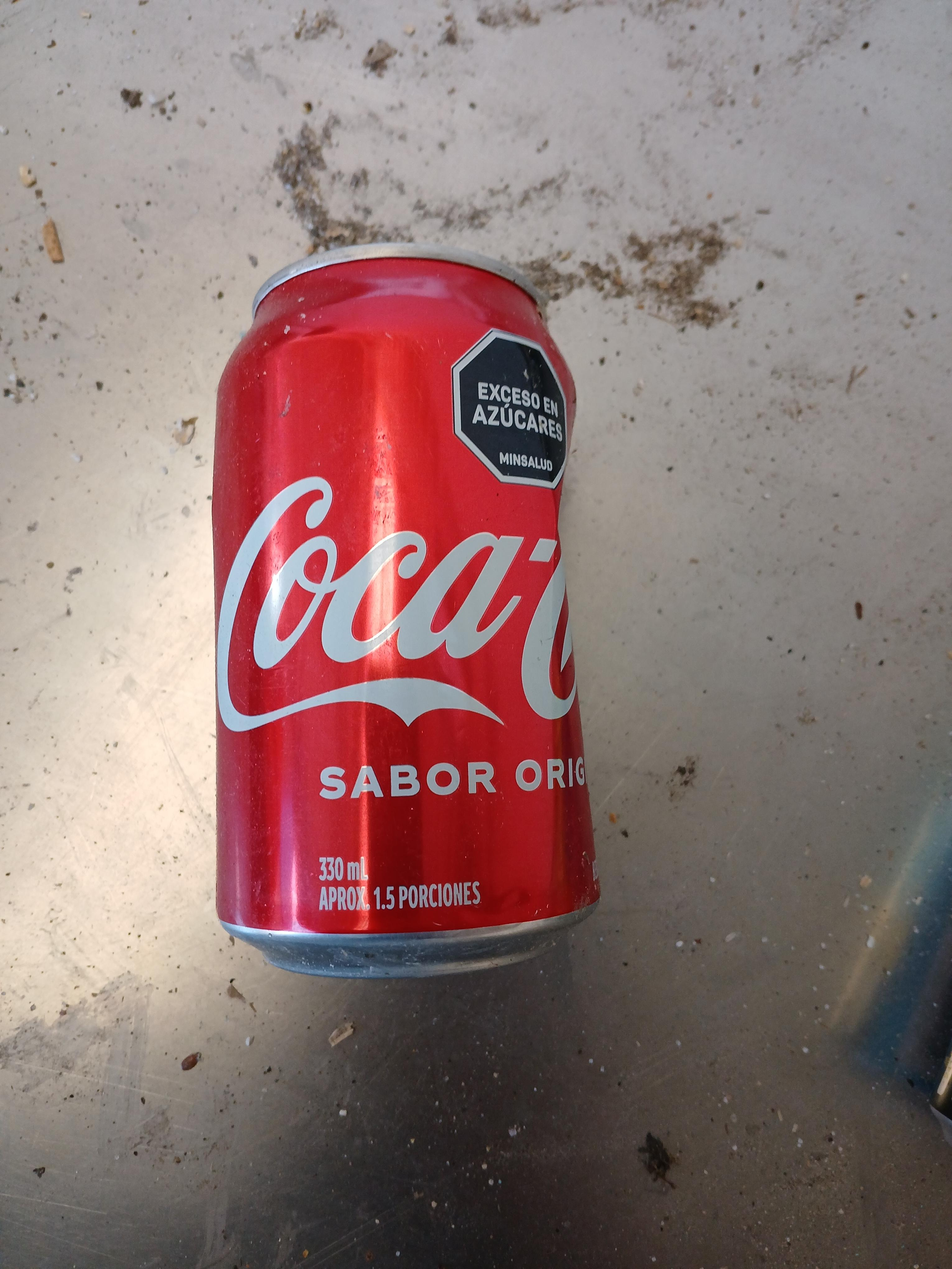Metal: (214, 244, 605, 979)
